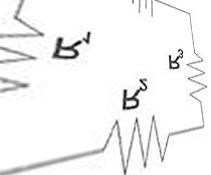resistor: (89, 115, 171, 173), (184, 47, 207, 102)
